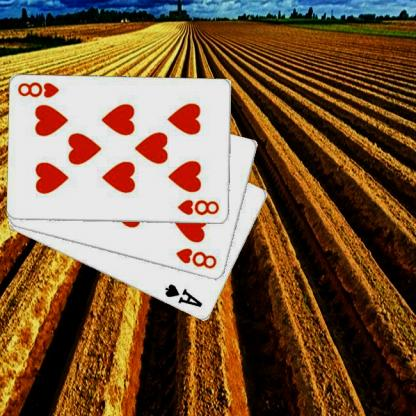8H: (175, 245, 220, 271), (177, 197, 222, 217), (17, 80, 62, 99)
AS: (164, 282, 205, 309)
